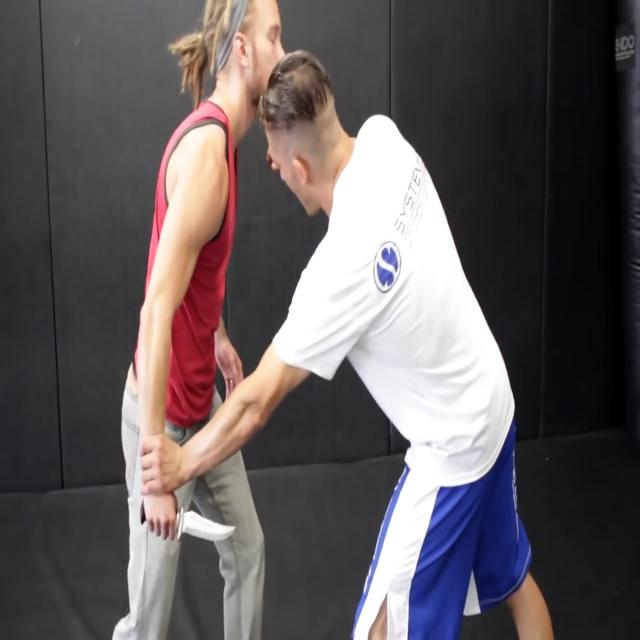knife: (176, 504, 238, 553)
